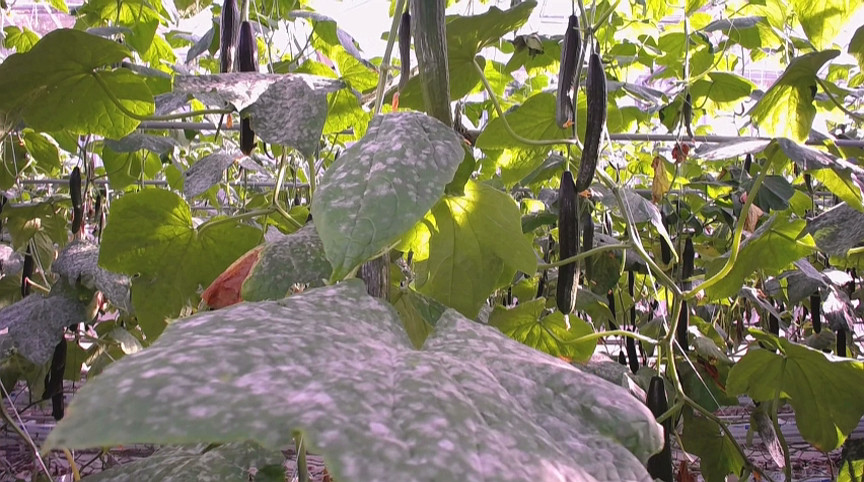cucumber: (408, 1, 454, 133), (575, 54, 608, 196), (555, 170, 580, 317), (556, 14, 581, 129), (239, 21, 257, 155), (647, 376, 669, 482), (219, 2, 241, 75), (51, 338, 68, 422), (67, 167, 85, 236), (810, 290, 823, 335)
